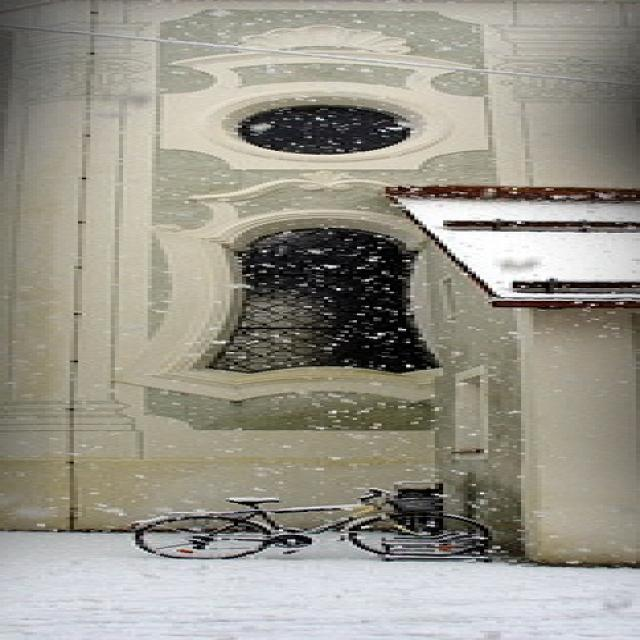bicycle: (123, 486, 492, 560)
